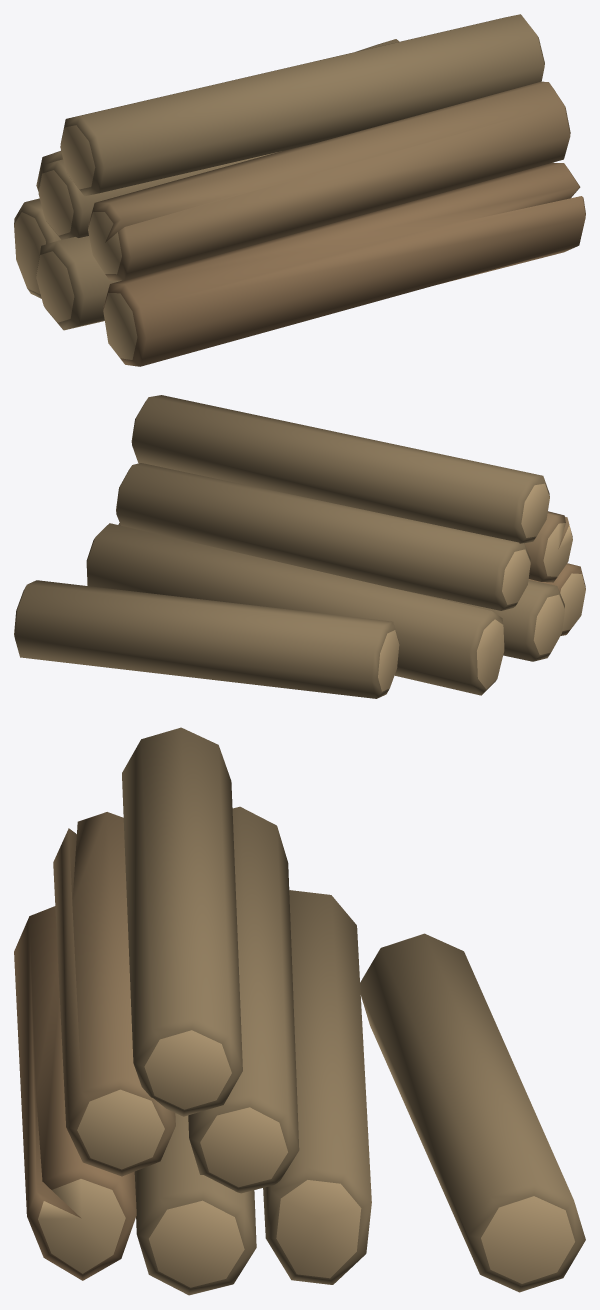
File: rpgpp_ag_log_wood_02b.fbx
3 renders of one model, top to bottom at view 1: azimuth 30°, elevation 25°; view 2: azimuth 150°, elevation 25°; view 3: azimuth 270°, elevation 25°, orthographic. The views are drawn at different scales.
Parts seen in each view (by area): view 1: rpgpp_ag_log_wood_02b; view 2: rpgpp_ag_log_wood_02b; view 3: rpgpp_ag_log_wood_02b.
Boxes of the visible parts, bbox=[...] form: rpgpp_ag_log_wood_02b: bbox=[14, 14, 585, 366]; rpgpp_ag_log_wood_02b: bbox=[14, 395, 585, 698]; rpgpp_ag_log_wood_02b: bbox=[14, 727, 585, 1295].
Bounding box in the file's own units: 2.13 × 0.9162 × 1.69.
